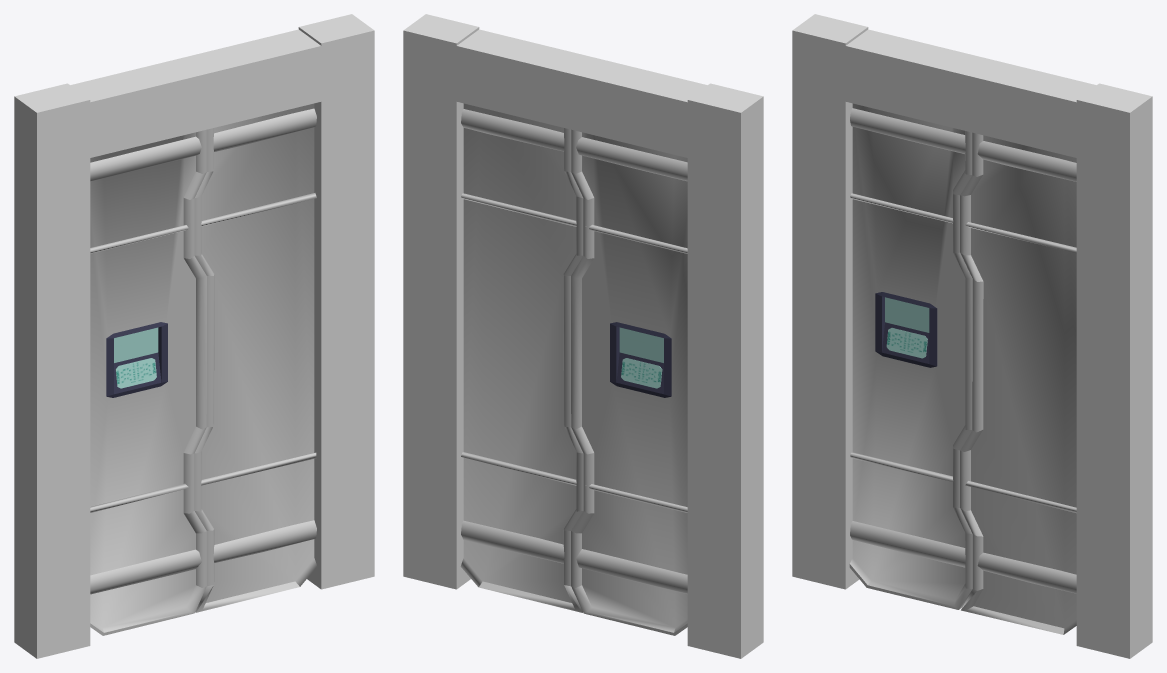
Rendered from Future_Door_Final.fbx.
3 views of the same model, side by side, from view 1: azimuth 30°, elevation 25°; view 2: azimuth 150°, elevation 25°; view 3: azimuth 330°, elevation 25° (orthographic).
Visible parts, largest first — view 1: Cube, Right_Door_Final, Left_Door_Final, Cube.001, KeyLock_Keyboard_Final; view 2: Cube, Right_Door_Final, Left_Door_Final, Cube.001, KeyLock_Keyboard_Final; view 3: Cube, Right_Door_Final, Left_Door_Final, Cube.001, KeyLock_Keyboard_Final.
Part boxes in pixels (x1,y1,x2,y2): Cube: (14, 14, 374, 658); Right_Door_Final: (194, 103, 316, 612); Left_Door_Final: (90, 129, 206, 635); Cube.001: (70, 29, 323, 158); KeyLock_Keyboard_Final: (106, 322, 167, 397); Cube: (403, 14, 763, 658); Right_Door_Final: (460, 103, 583, 612); Left_Door_Final: (571, 129, 687, 635); Cube.001: (456, 29, 707, 157); KeyLock_Keyboard_Final: (610, 322, 671, 397); Cube: (792, 14, 1152, 658); Right_Door_Final: (960, 132, 1076, 634); Left_Door_Final: (849, 103, 972, 609); Cube.001: (844, 29, 1096, 158); KeyLock_Keyboard_Final: (875, 292, 937, 367).
Bounding box in the file's own units: 137 × 212 × 15.83.
